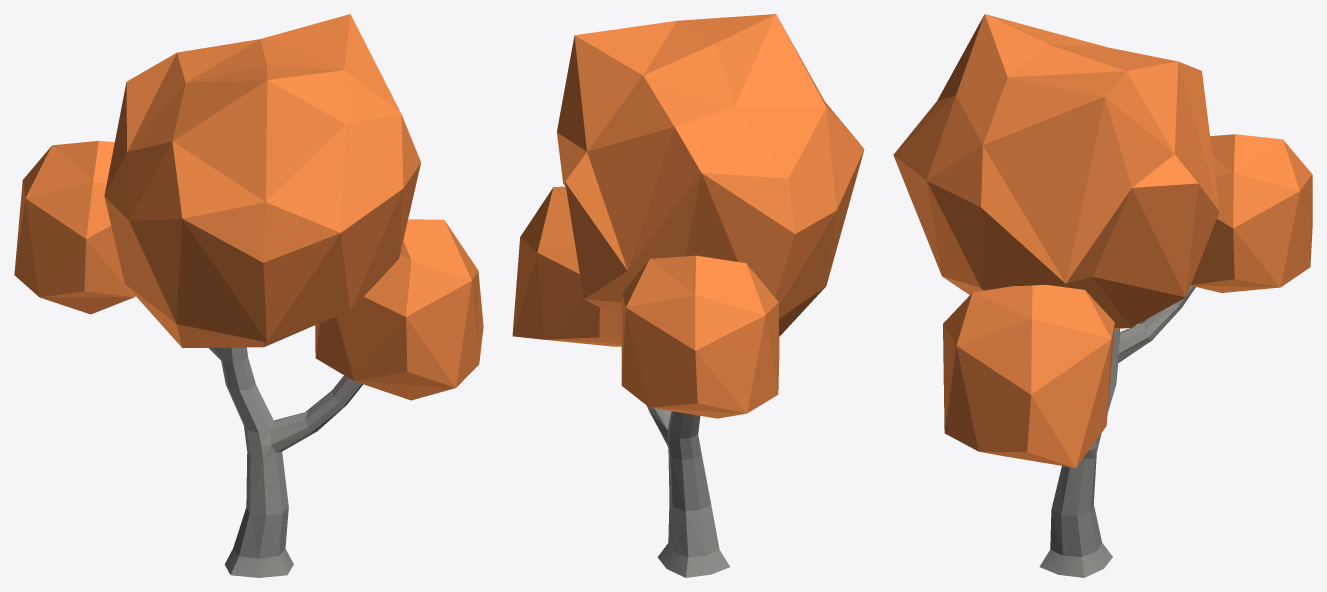
The model's file is TelTree2.fbx.
The picture shows the model from 3 angles, left to right: view 1: azimuth 30°, elevation 25°; view 2: azimuth 150°, elevation 25°; view 3: azimuth 270°, elevation 25°; orthographic projection.
Parts seen in each view (by area): view 1: tree_009; view 2: tree_009; view 3: tree_009.
Part boxes in pixels (x1,y1,x2,y2): tree_009: (14, 14, 483, 577); tree_009: (512, 14, 864, 577); tree_009: (893, 14, 1312, 577).
Size of the model in its own units: 1112 by 1586 by 1138.
